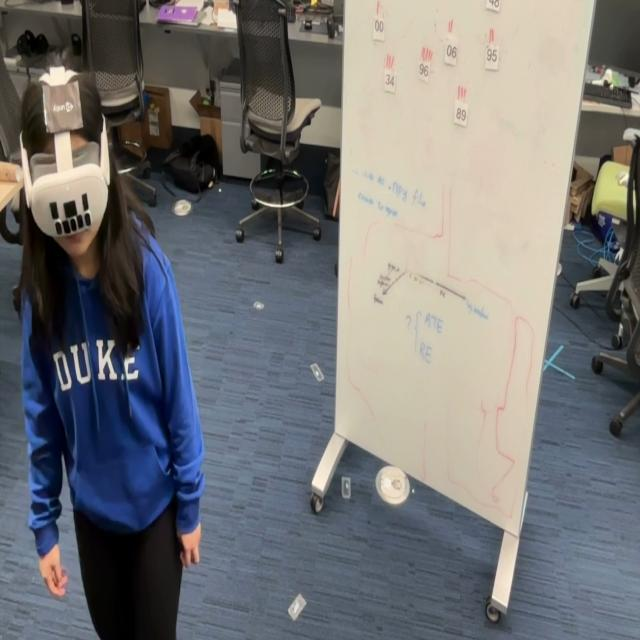Headset: (19, 68, 111, 240)
UnityLogo: (38, 64, 85, 136)
